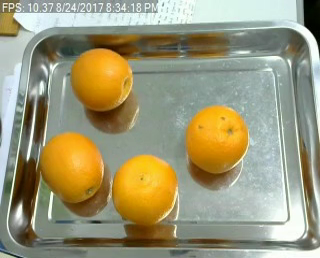Orange: (39, 131, 105, 203), (111, 153, 175, 223), (186, 105, 249, 174), (70, 48, 133, 111)
